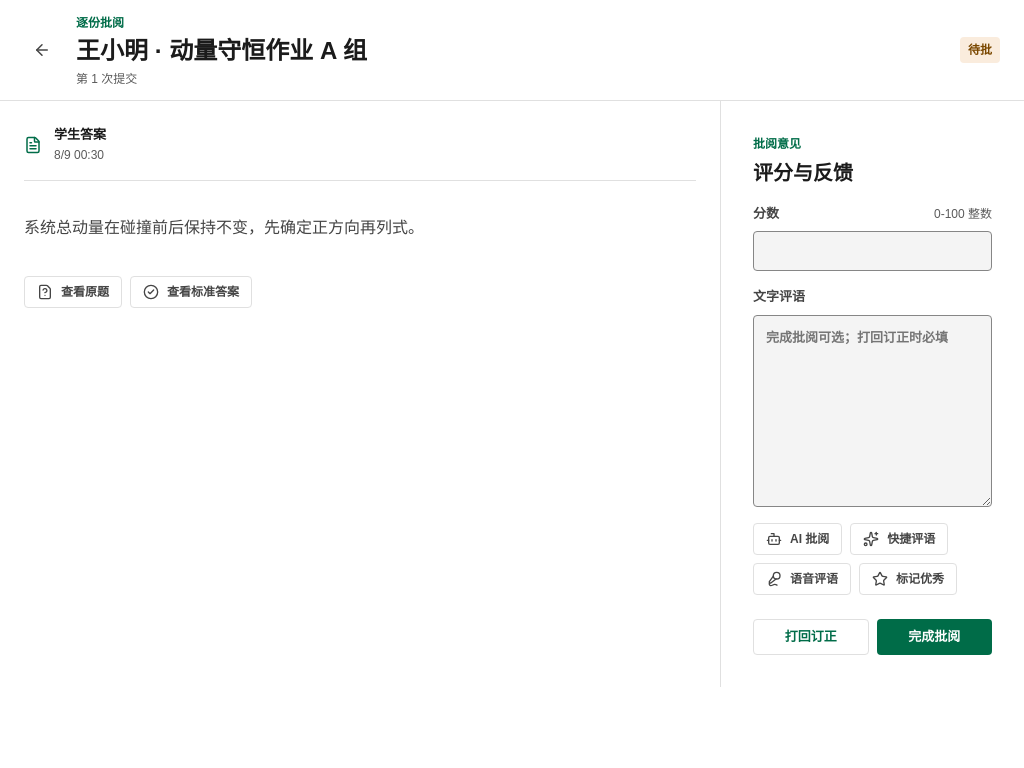
Test: homework workspace › grades an integer score and refreshes the readonly review result
Type "88" into the number field labelled "分数 0-100 整数" at (872, 251), box [753,231,992,271]
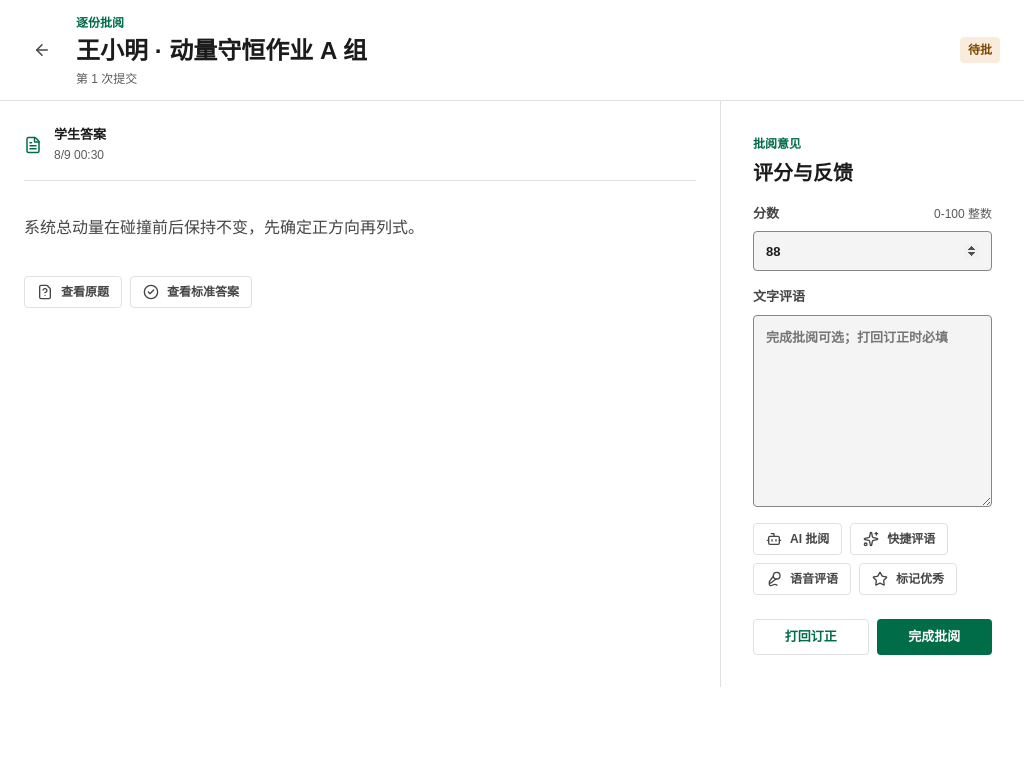
Type "过程完整。" into the text box labelled "文字评语" at (872, 411), box [753,315,992,507]
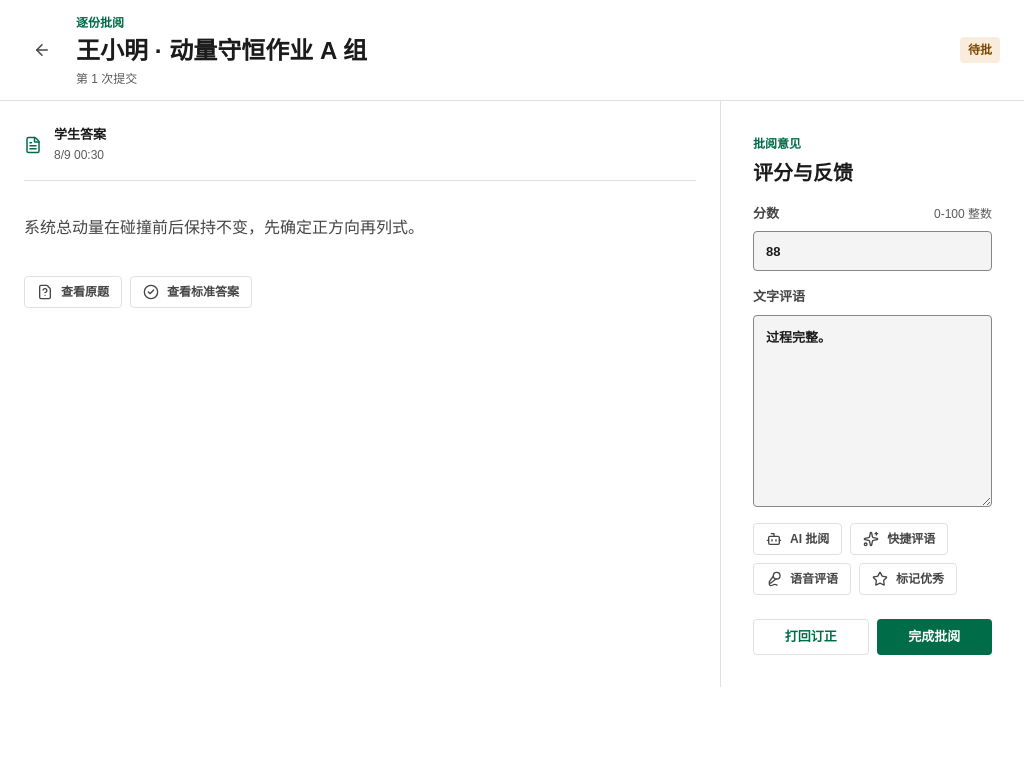
Click the button "完成批阅" at (934, 637), box [876,619,992,655]
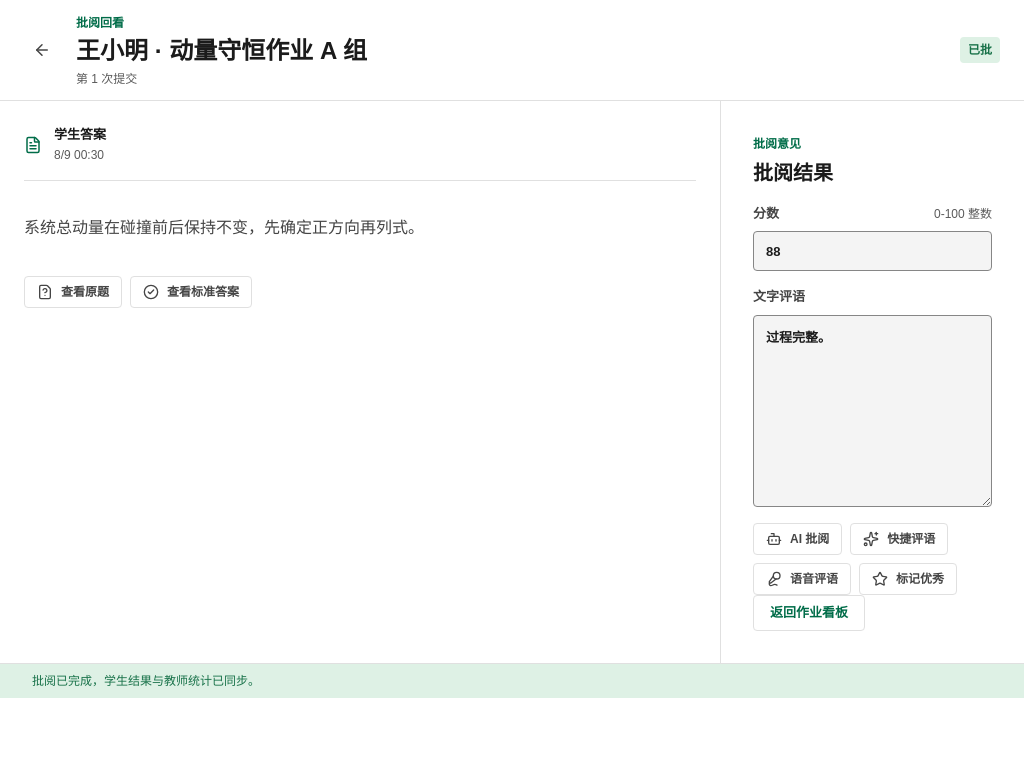
Expected: the number field labelled "分数 0-100 整数" is disabled, [753,231,992,271]
Now the message shows "批阅已完成", box [32,674,260,688]
Now the text "已批" is shown, box [960,37,1000,63]
